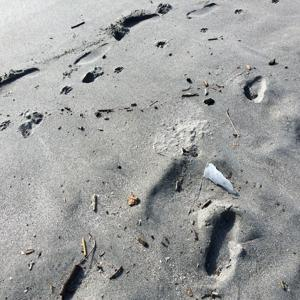plastic: (191, 161, 250, 198)
